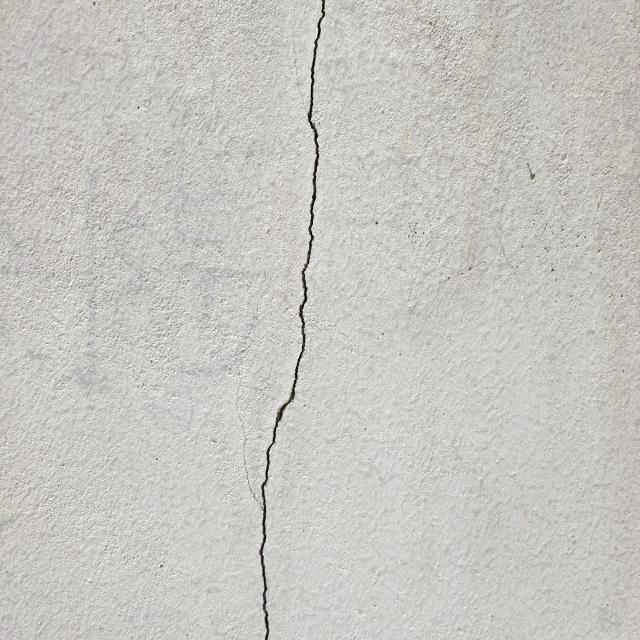SurfaceCrack: (224, 0, 367, 640)
